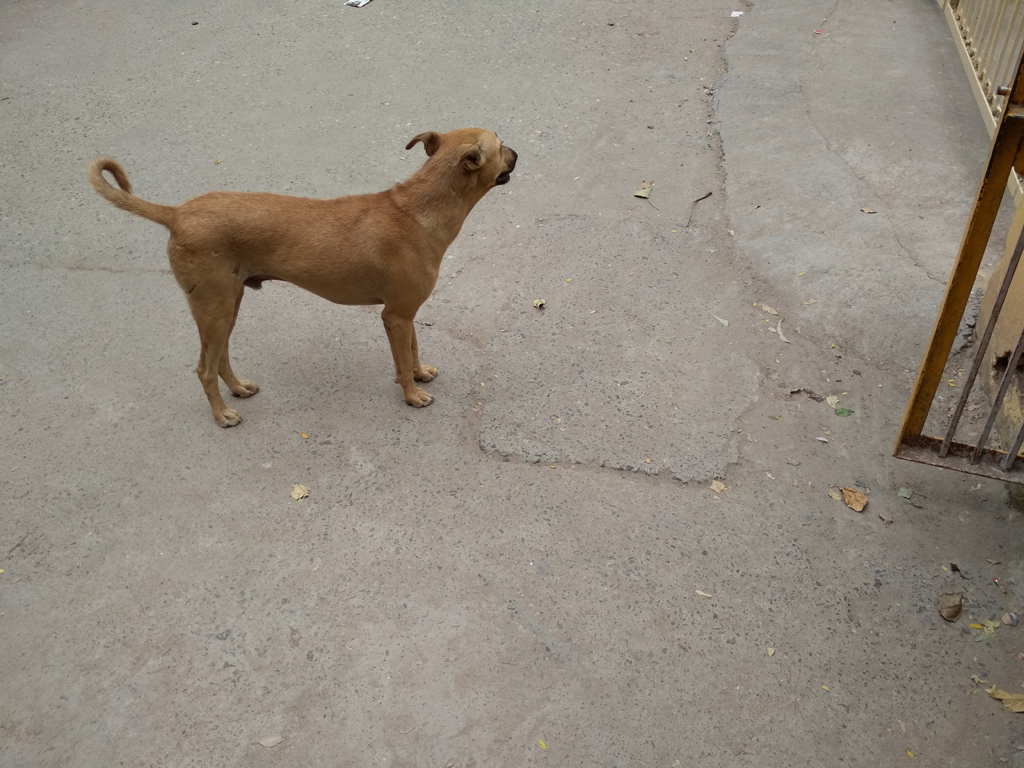dog: (90, 129, 520, 430)
